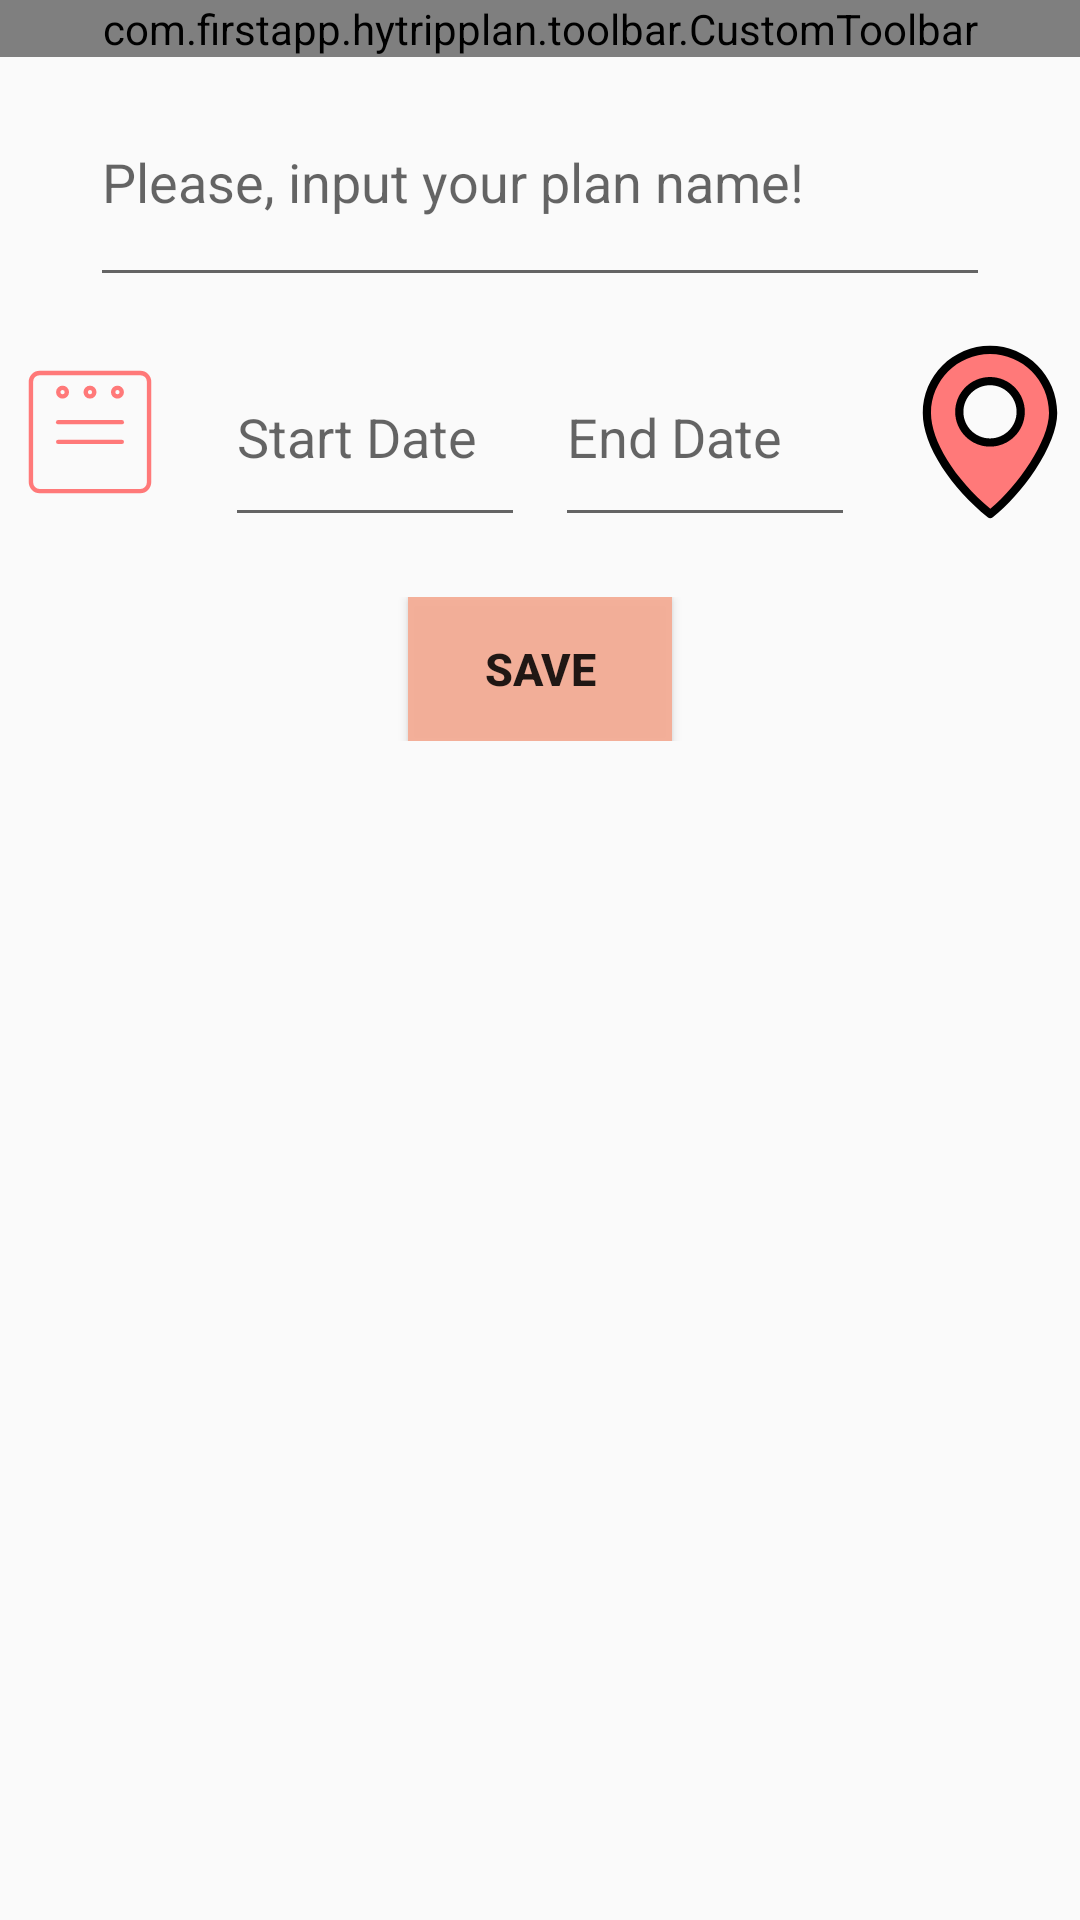

Named icons in this screenshot (1080w x 1920h) and their bounding boxes, [x1,y1,x2,y2]:
iconfinder quiz: [28,370,152,494]
iconfinder twitter location map: [922,345,1058,519]
